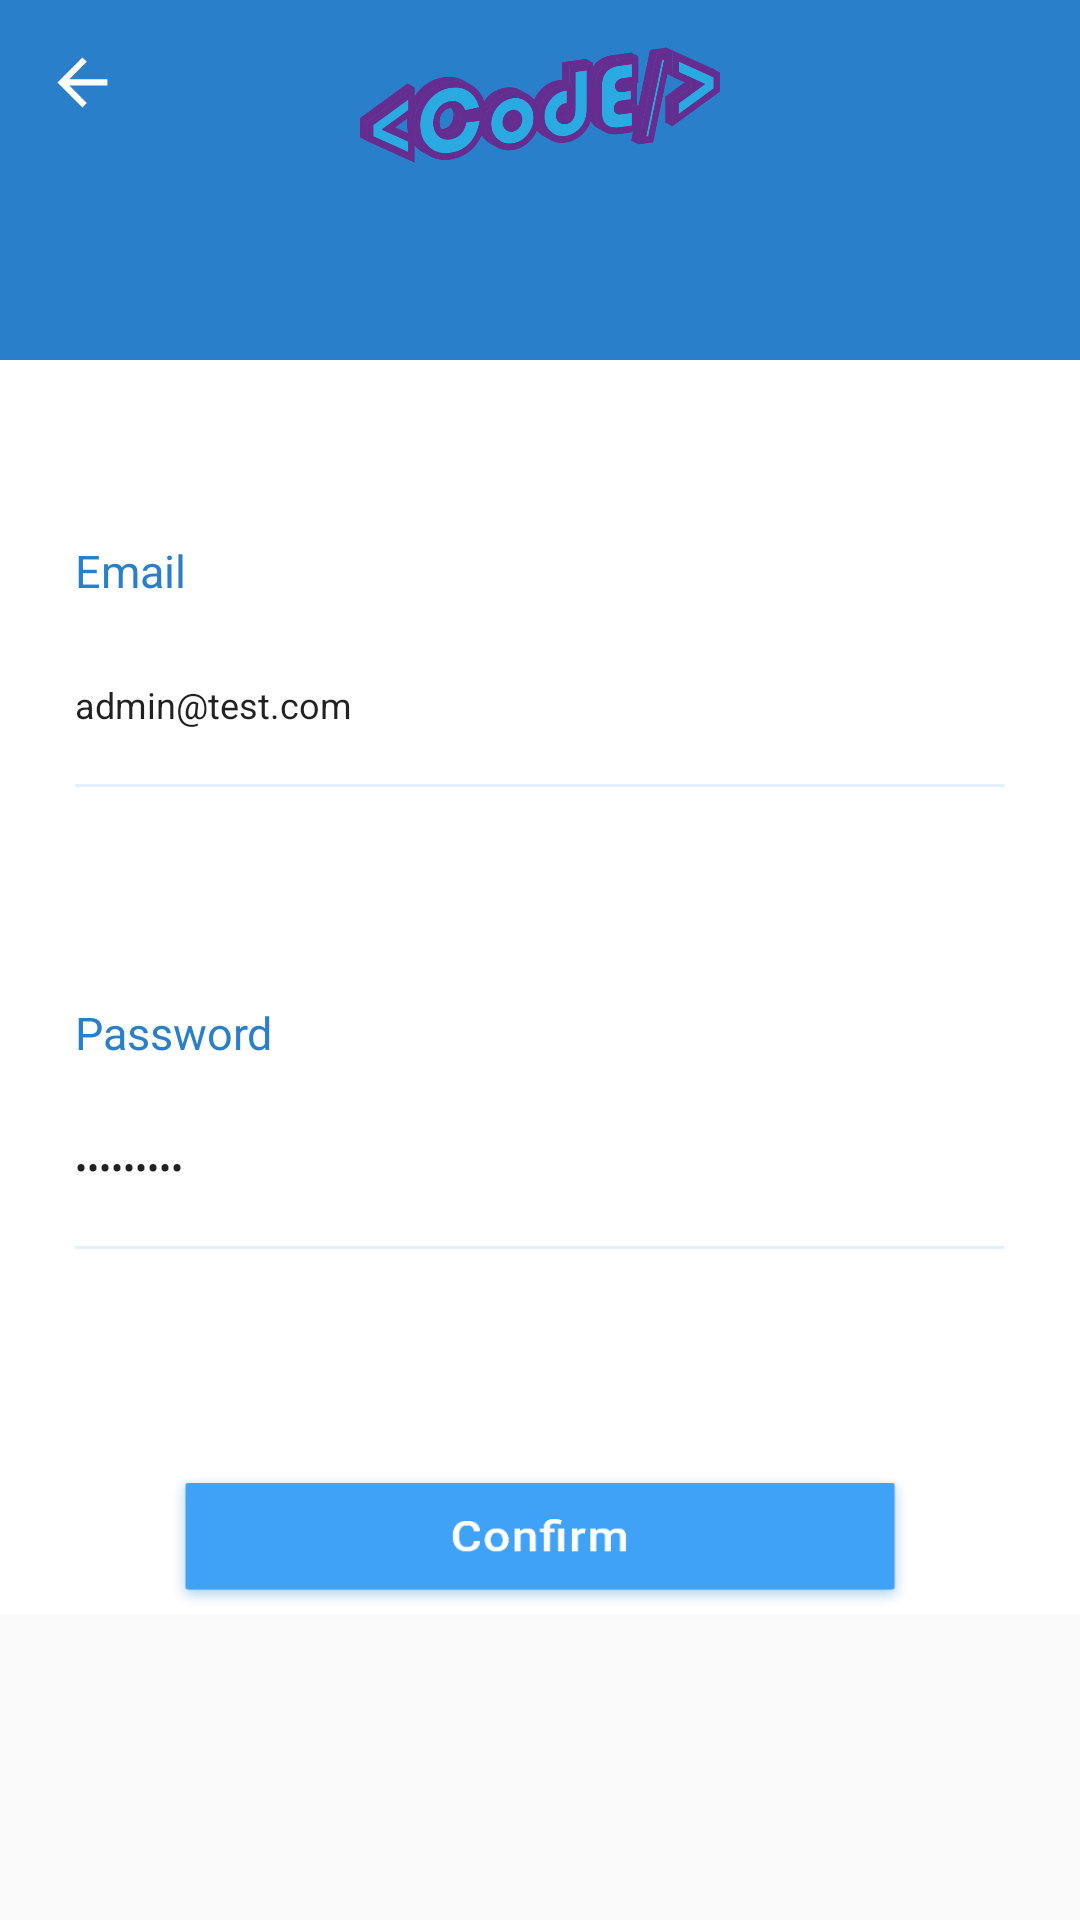

Icons on this 1080px x 1920px Android screen, each with the point to tap as (x,y):
back: (82,82)
